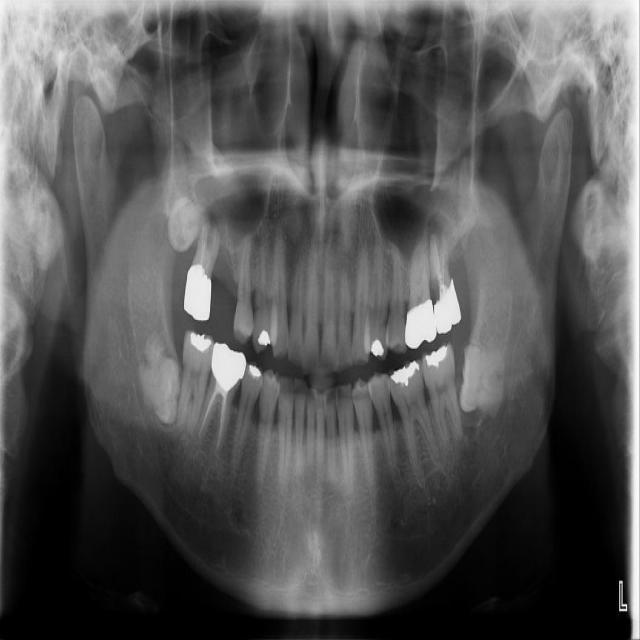3M ESPE Implant: (159, 194, 213, 258)
52: (199, 338, 256, 392), (379, 355, 436, 409), (412, 340, 466, 393), (177, 328, 218, 380), (400, 299, 439, 351), (182, 269, 215, 322), (428, 293, 465, 336), (363, 315, 390, 362), (252, 308, 279, 354), (239, 361, 265, 404)
73: (192, 372, 240, 459), (187, 210, 227, 285), (429, 232, 457, 305), (582, 526, 596, 546)
BioHorizons Implant: (419, 227, 464, 336)
Biomet 3i Implant: (458, 343, 508, 416)
Blue Sky Bio Implant: (419, 341, 465, 453)
Caries: (181, 210, 225, 322)
Implant: (175, 329, 217, 433)
Keystone Dental Implant: (137, 339, 182, 425)
